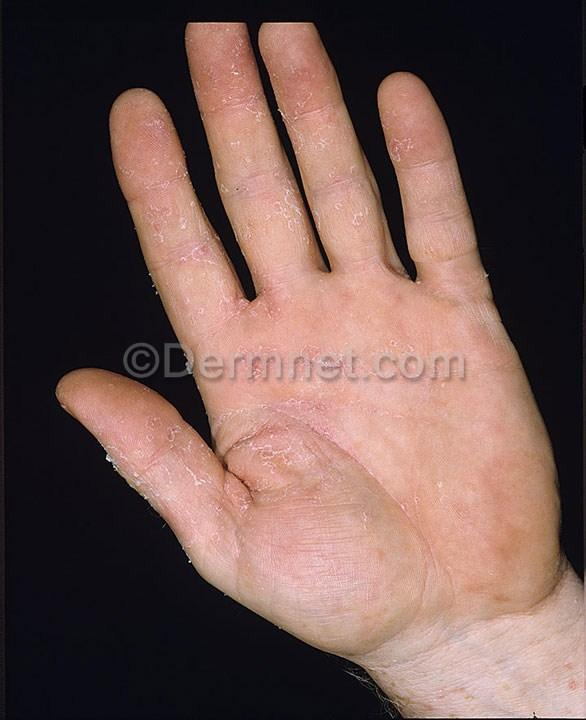Eczema: (387, 434, 542, 624), (220, 394, 340, 559), (187, 19, 289, 204), (93, 392, 199, 495), (115, 102, 200, 230), (313, 261, 417, 356), (343, 376, 442, 470), (162, 230, 238, 342), (317, 146, 380, 269), (381, 89, 445, 206), (245, 199, 310, 306), (427, 195, 485, 312), (281, 31, 337, 134)
